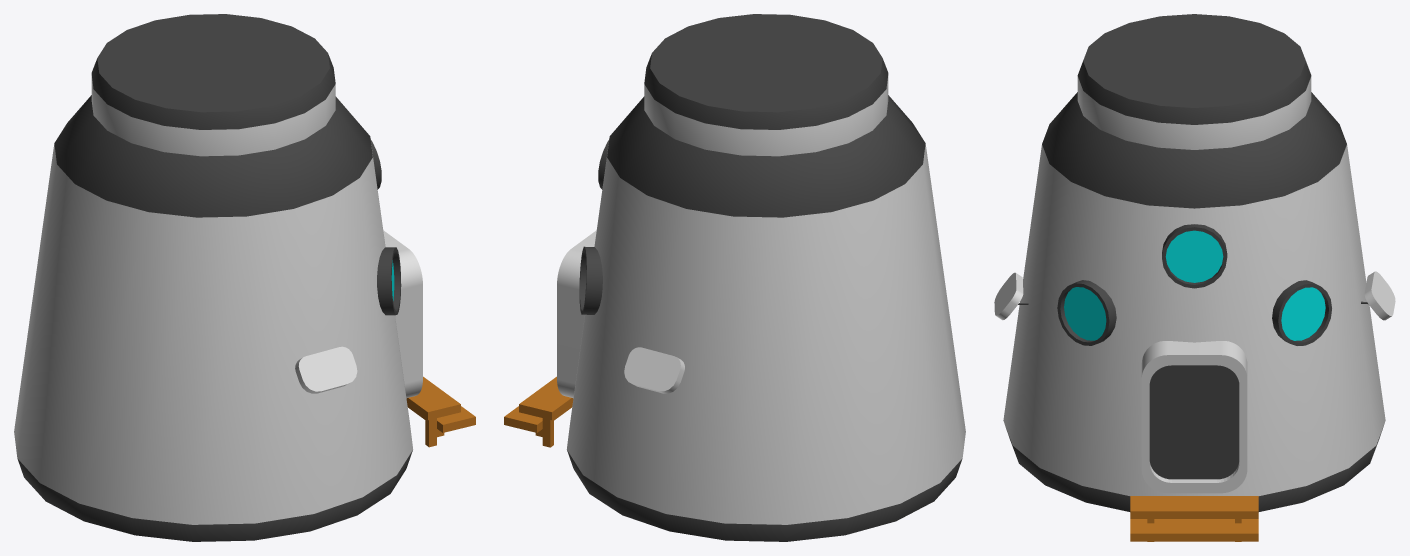
The model's file is Pod.fbx.
3 renders of one model, left to right at view 1: azimuth 30°, elevation 25°; view 2: azimuth 150°, elevation 25°; view 3: azimuth 270°, elevation 25°, orthographic. The views are drawn at different scales.
Parts seen in each view (by area): view 1: pod; view 2: pod; view 3: pod.
Boxes of the visible parts, <box> form: pod: <box>14,14,475,541</box>; pod: <box>504,14,965,541</box>; pod: <box>994,14,1395,541</box>.
Bounding box in the file's own units: 2.9 × 2.79 × 2.63.
